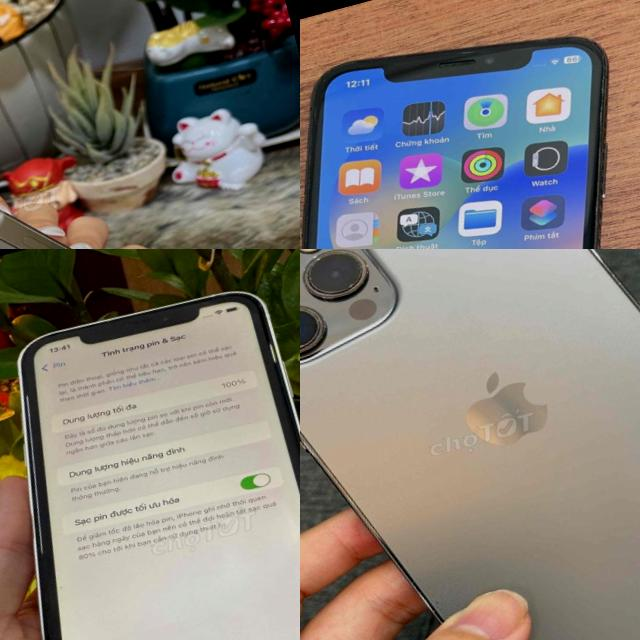gen_12_13: (300, 249, 640, 640), (0, 7, 240, 249)
gen_x_xs: (0, 270, 300, 640), (302, 36, 607, 249)
scratch: (304, 52, 372, 90), (596, 187, 620, 208)
